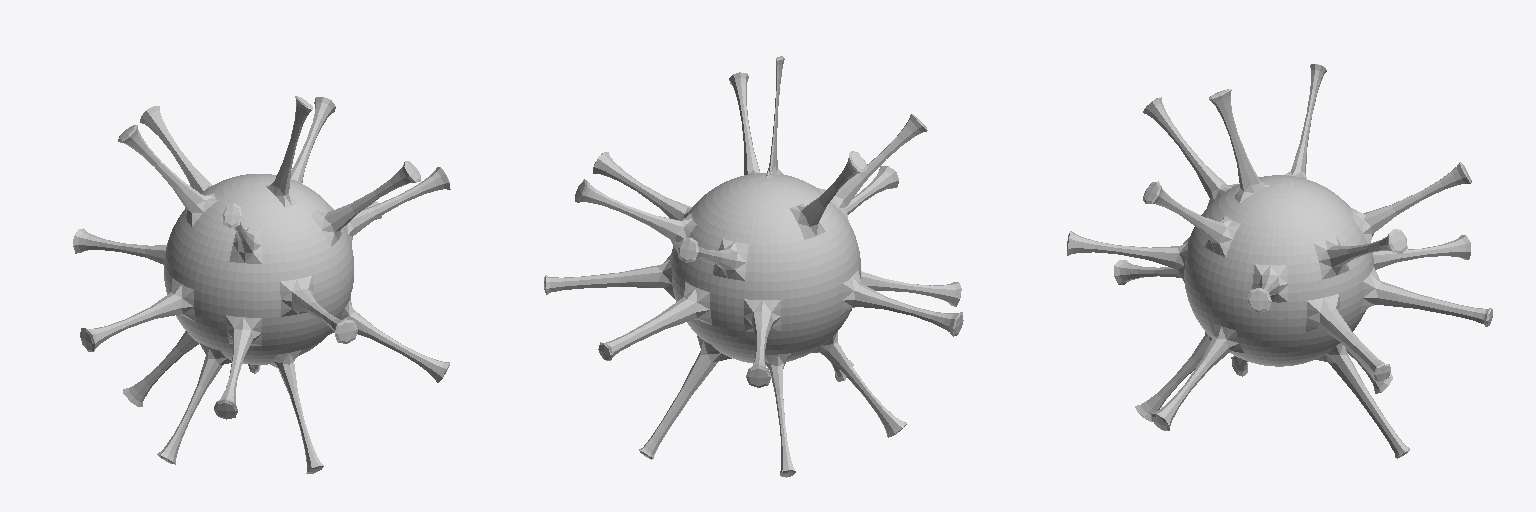
Rendered from KaramendosCell.obj.
3 renders of one model, left to right at view 1: azimuth 30°, elevation 25°; view 2: azimuth 150°, elevation 25°; view 3: azimuth 270°, elevation 25°, orthographic.
Visible parts, largest first — view 1: Sphere01; view 2: Sphere01; view 3: Sphere01.
Boxes of the visible parts, x1,y1,x2,y2 form: Sphere01: [73, 96, 450, 473]; Sphere01: [544, 56, 963, 477]; Sphere01: [1067, 64, 1492, 458].
Size of the model in its own units: 145 by 133 by 147.